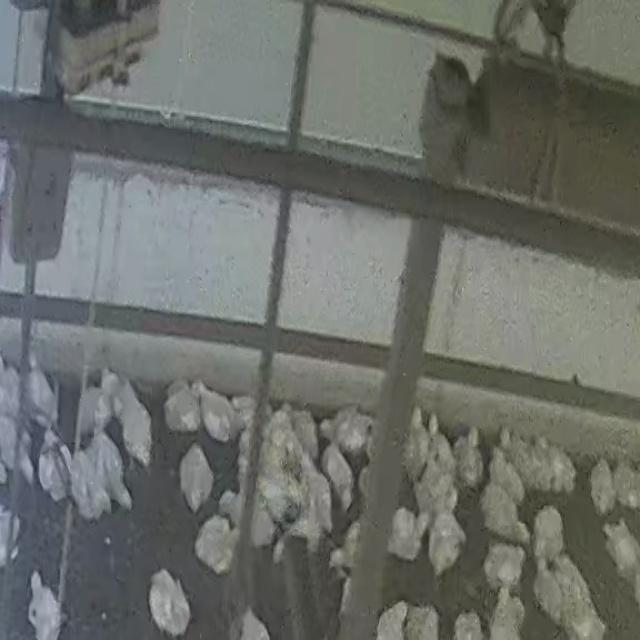chicken: (534, 550, 603, 638), (66, 432, 131, 520), (478, 467, 526, 543), (414, 442, 460, 517), (114, 381, 153, 464), (147, 566, 193, 636), (300, 457, 336, 545), (426, 507, 468, 577), (37, 432, 74, 506), (27, 570, 66, 637), (195, 519, 240, 577), (198, 383, 240, 445), (601, 518, 640, 584), (321, 443, 356, 514), (482, 538, 527, 591), (329, 406, 374, 459), (386, 505, 425, 562), (530, 504, 567, 564), (262, 407, 300, 465), (453, 429, 487, 492), (403, 409, 433, 479), (502, 431, 537, 491), (180, 447, 213, 510), (75, 383, 112, 439), (540, 442, 578, 496), (26, 362, 58, 424), (163, 384, 201, 434), (486, 590, 525, 638), (520, 439, 554, 492), (333, 519, 361, 580), (588, 458, 616, 516), (611, 457, 640, 513), (290, 407, 320, 461), (375, 600, 413, 640), (248, 500, 278, 550), (1, 360, 23, 428), (400, 603, 440, 640), (233, 607, 274, 640), (487, 448, 513, 497), (0, 504, 20, 567), (432, 434, 457, 484), (0, 414, 21, 473), (17, 436, 38, 490), (453, 610, 486, 640), (337, 572, 356, 624), (234, 451, 250, 511), (218, 489, 242, 527), (99, 368, 121, 404), (166, 378, 194, 404), (358, 464, 372, 505)
